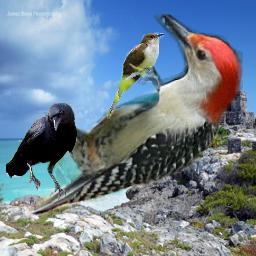Crow: (6, 103, 77, 200)
Cuckoo: (106, 32, 165, 119)
Woodpecker: (26, 14, 243, 216)
